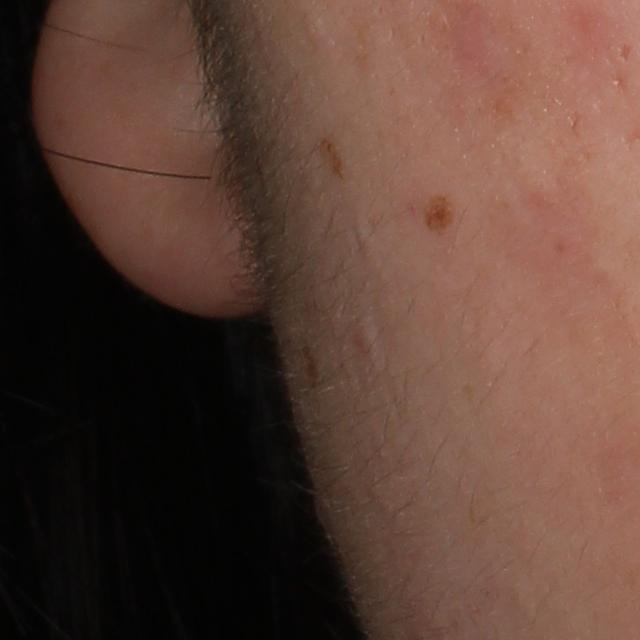atrophic_scar: (617, 41, 636, 62)
comedo: (354, 224, 374, 246)
nevus: (398, 191, 474, 260), (311, 127, 349, 181)
